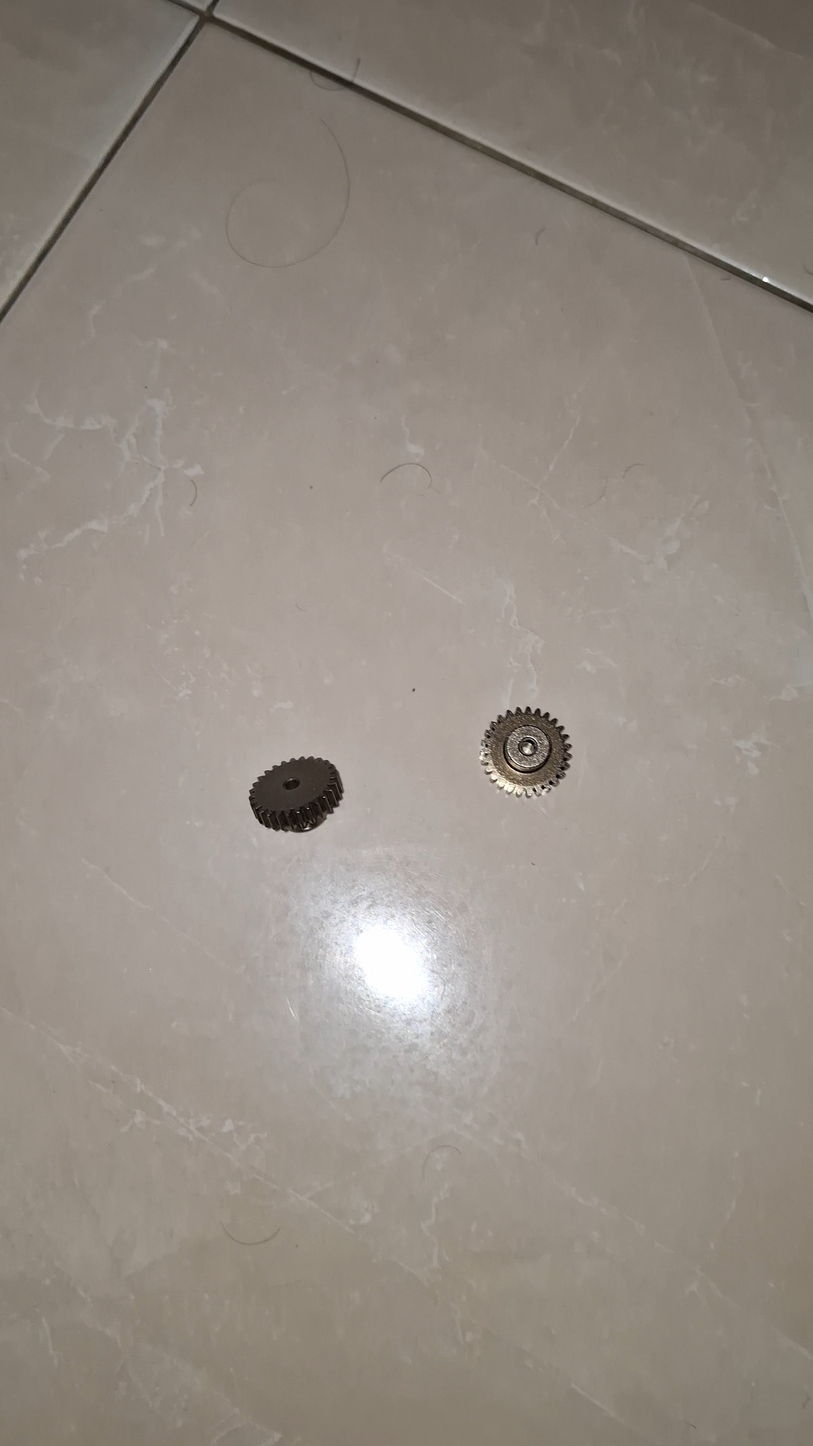spur gear: (480, 708, 571, 796), (249, 757, 343, 832)
